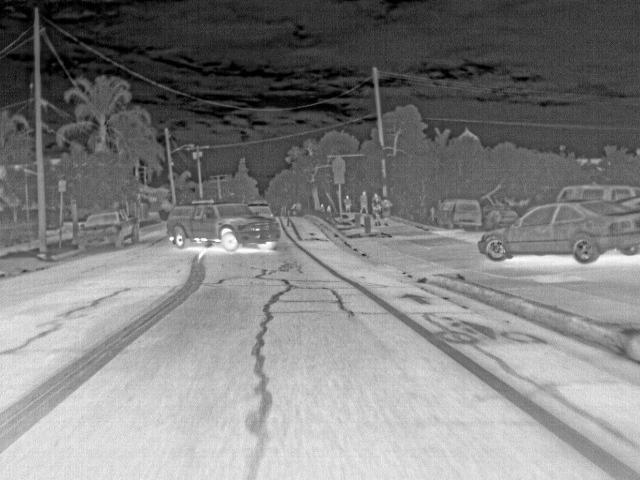car: (477, 202, 639, 262), (165, 201, 281, 251), (77, 209, 138, 252), (436, 197, 480, 228), (559, 184, 637, 200), (481, 207, 518, 230), (250, 200, 273, 216), (623, 196, 639, 213)
person: (369, 191, 382, 225), (379, 197, 392, 226), (356, 188, 369, 214), (341, 193, 353, 214)
